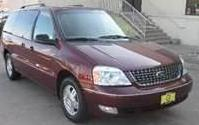front_view: (91, 54, 189, 116)
headlight: (87, 57, 143, 97)
side_glass: (7, 9, 55, 50)
